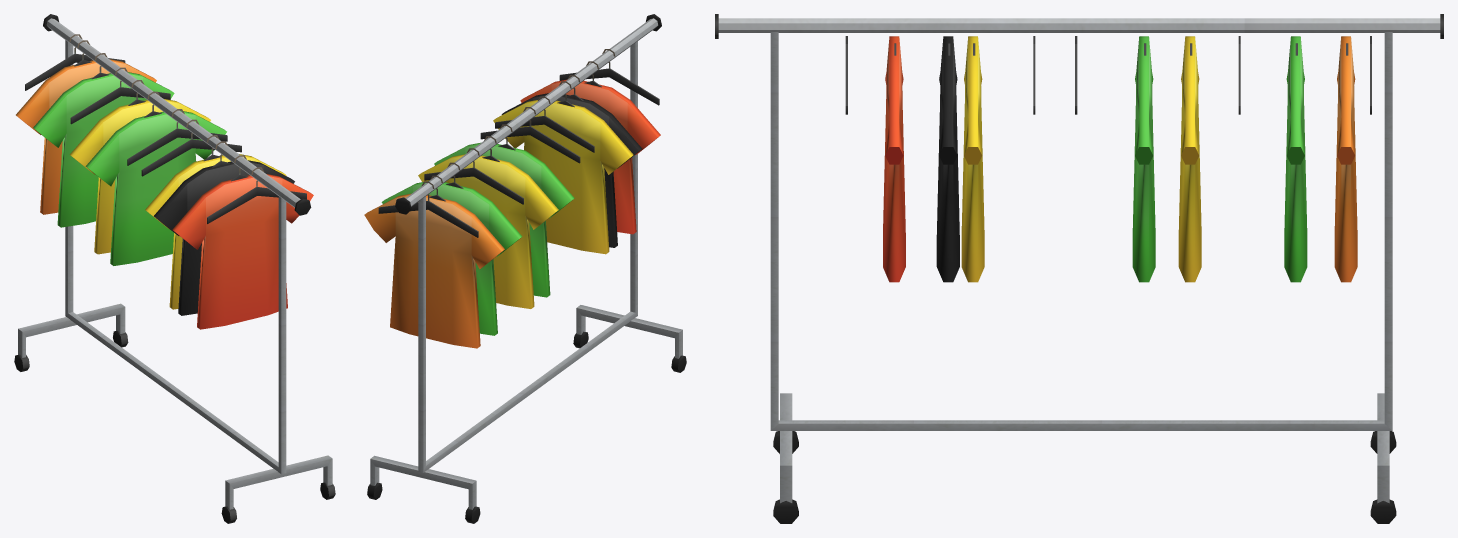
The model's file is Cloth_Rack_03.FBX.
The picture shows the model from 3 angles, left to right: view 1: azimuth 30°, elevation 25°; view 2: azimuth 150°, elevation 25°; view 3: azimuth 270°, elevation 25°; orthographic projection. The views are drawn at different scales.
Visible parts, largest first — view 1: Cloth_Rack_03; view 2: Cloth_Rack_03; view 3: Cloth_Rack_03.
Boxes of the visible parts, x1,y1,x2,y2 form: Cloth_Rack_03: (14, 14, 335, 523); Cloth_Rack_03: (364, 14, 686, 523); Cloth_Rack_03: (715, 14, 1443, 523).
Bounding box in the file's own units: 0.6186 × 1.96 × 1.4.
